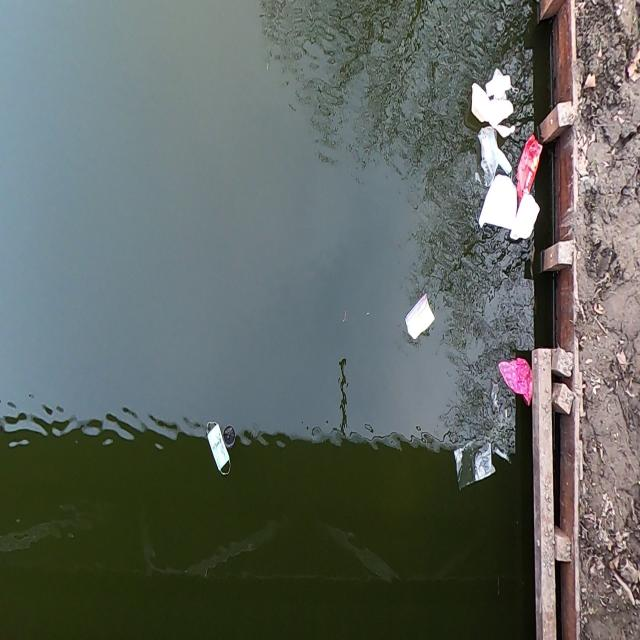Autre plastique: (498, 346, 533, 410)
Non plastique: (203, 416, 234, 487)
Sac plastique: (450, 434, 500, 498), (476, 124, 502, 188)
